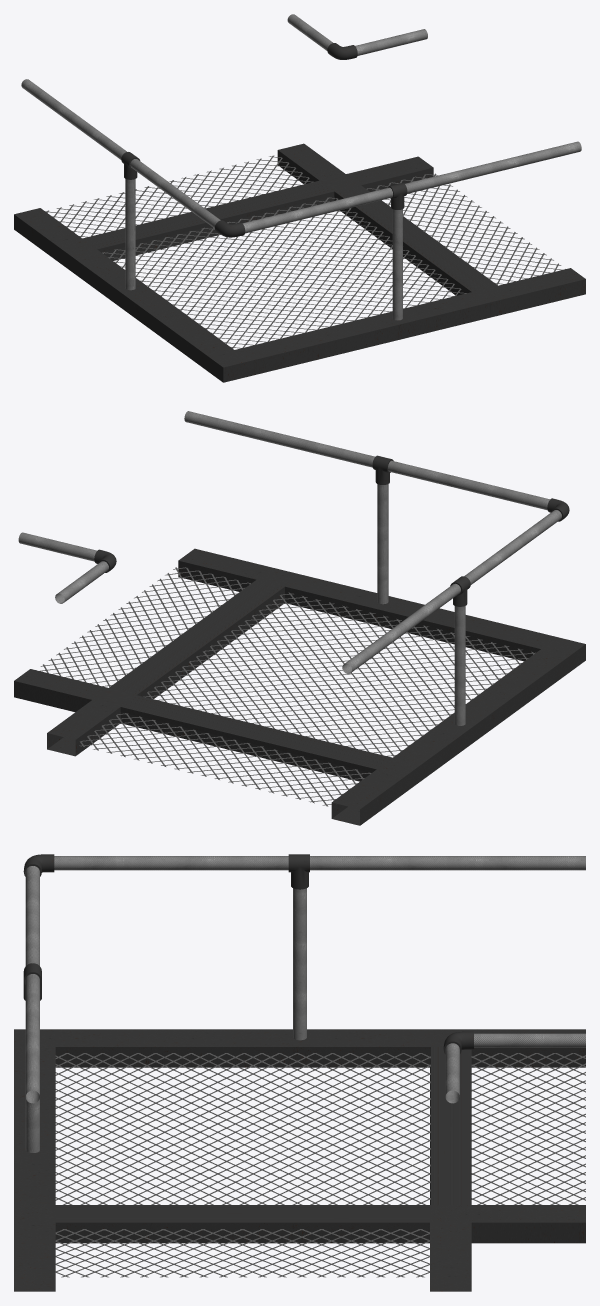
Rendered from CatWalk_Corner.fbx.
3 views of the same model, one above another, from view 1: azimuth 30°, elevation 25°; view 2: azimuth 150°, elevation 25°; view 3: azimuth 270°, elevation 25° (orthographic). The views are drawn at different scales.
Visible parts, largest first — view 1: CatWalk_Corner; view 2: CatWalk_Corner; view 3: CatWalk_Corner.
Part boxes in pixels (x1,y1,x2,y2): CatWalk_Corner: [14, 14, 585, 382]; CatWalk_Corner: [14, 411, 585, 825]; CatWalk_Corner: [14, 854, 585, 1291].
Bounding box in the file's own units: 5 × 1.96 × 5.
